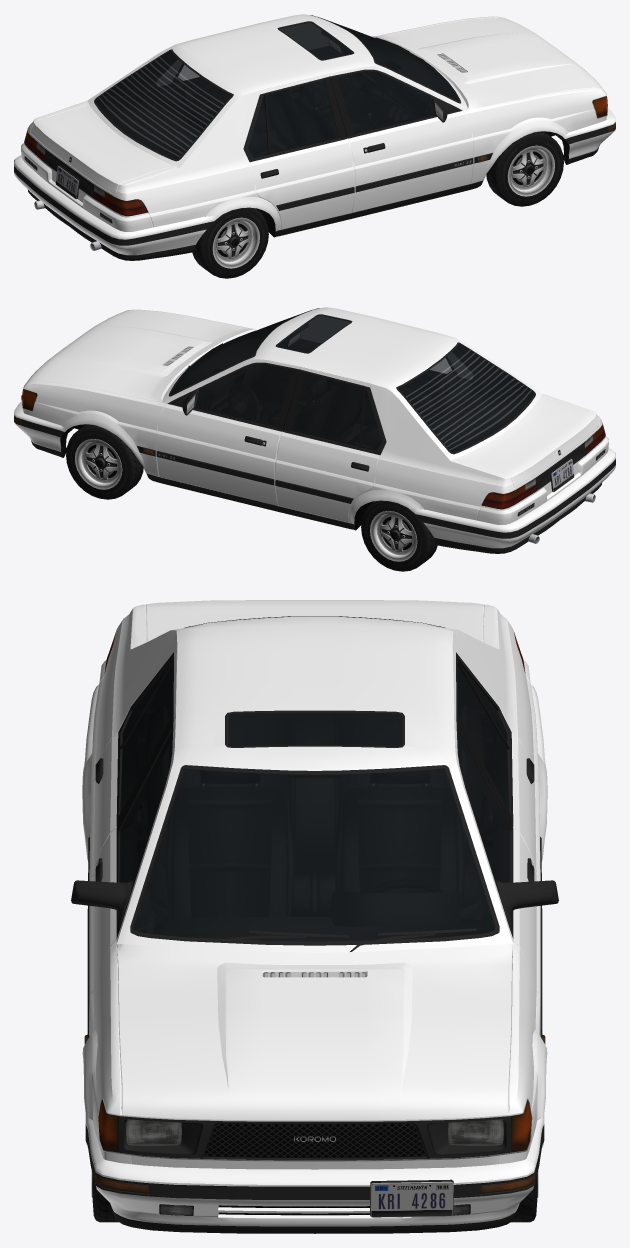
File: kiri86.fbx
3 renders of one model, top to bottom at view 1: azimuth 30°, elevation 25°; view 2: azimuth 150°, elevation 25°; view 3: azimuth 270°, elevation 25°, orthographic. The views are drawn at different scales.
Parts seen in each view (by area): view 1: kiri86_Body, kiri86_Interior, kiri86_Hood, kiri86_Bottom, kiri86_Rear_window, kiri86_Body_Glass, kiri86_Trunk_door, kiri86_Wheel_FR, kiri86_Glass_Passenger, kiri86_Wheel_RR, kiri86_Bumper_rear, kiri86_bumper_rear_inner (+7 smaller); view 2: kiri86_Body, kiri86_Interior, kiri86_Hood, kiri86_Bottom, kiri86_Rear_window, kiri86_Body_Glass, kiri86_Trunk_door, kiri86_Wheel_FL, kiri86_Glass_Driver, kiri86_Wheel_RL, kiri86_Bumper_rear, kiri86_bumper_rear_inner (+8 smaller); view 3: kiri86_Body, kiri86_Interior, kiri86_Hood, kiri86_Windshield, kiri86_Bottom, kiri86_Bumper_front, kiri86_Body_Glass, kiri86_Bumper_Front_Inner, kiri86_Trunk_door, kiri86_Headlights_Glass, kiri86_Glass_Driver, kiri86_Glass_Passenger (+4 smaller).
Part boxes in pixels (box(x1,y1,x2,y2)): kiri86_Body: box(21, 14, 606, 231); kiri86_Interior: box(96, 22, 458, 159); kiri86_Hood: box(371, 17, 603, 109); kiri86_Bottom: box(24, 15, 607, 250); kiri86_Rear_window: box(95, 51, 231, 159); kiri86_Body_Glass: box(157, 22, 352, 157); kiri86_Trunk_door: box(30, 104, 172, 194); kiri86_Wheel_FR: box(486, 131, 563, 206); kiri86_Glass_Passenger: box(336, 71, 434, 134); kiri86_Wheel_RR: box(192, 207, 268, 278); kiri86_Bumper_rear: box(14, 155, 221, 255); kiri86_bumper_rear_inner: box(14, 166, 213, 260); kiri86_Body: box(23, 307, 608, 524); kiri86_Interior: box(171, 315, 533, 452); kiri86_Hood: box(26, 310, 258, 402); kiri86_Bottom: box(22, 308, 605, 543); kiri86_Rear_window: box(398, 344, 534, 452); kiri86_Body_Glass: box(277, 315, 472, 450); kiri86_Trunk_door: box(457, 397, 599, 487); kiri86_Wheel_FL: box(66, 424, 143, 499); kiri86_Glass_Driver: box(195, 364, 293, 427); kiri86_Wheel_RL: box(361, 500, 437, 571); kiri86_Bumper_rear: box(408, 448, 615, 548); kiri86_bumper_rear_inner: box(416, 459, 615, 553); kiri86_Body: box(82, 604, 547, 1169); kiri86_Interior: box(121, 666, 508, 941); kiri86_Hood: box(117, 944, 512, 1120); kiri86_Windshield: box(134, 768, 495, 941); kiri86_Bottom: box(71, 616, 558, 1161); kiri86_Bumper_front: box(85, 1115, 544, 1226); kiri86_Body_Glass: box(120, 665, 509, 813); kiri86_Bumper_Front_Inner: box(85, 1118, 544, 1233); kiri86_Trunk_door: box(146, 600, 483, 641); kiri86_Headlights_Glass: box(98, 1100, 531, 1151); kiri86_Glass_Driver: box(458, 731, 510, 882); kiri86_Glass_Passenger: box(119, 731, 171, 882).
Size of the model in its own units: 4.31 by 1.32 by 1.76.
